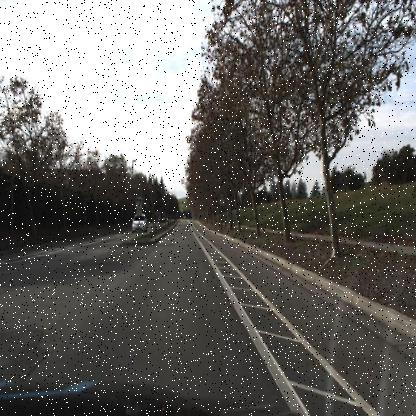car: (132, 214, 146, 233)
